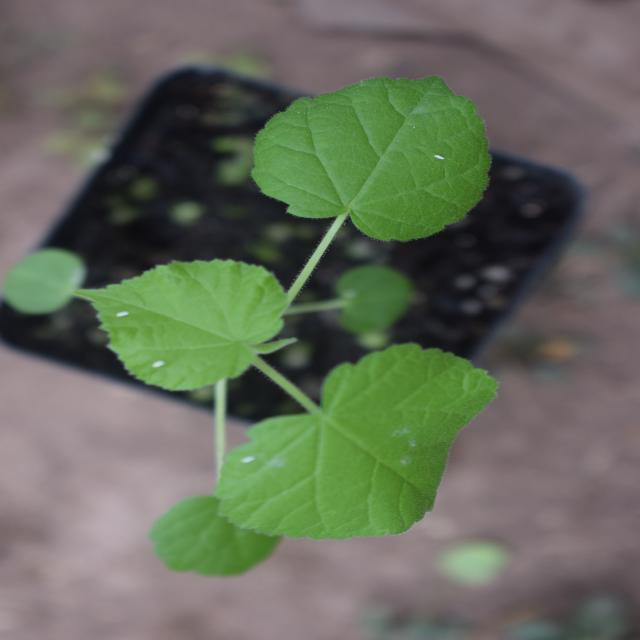abutilon theophrasti: (41, 84, 558, 518)
